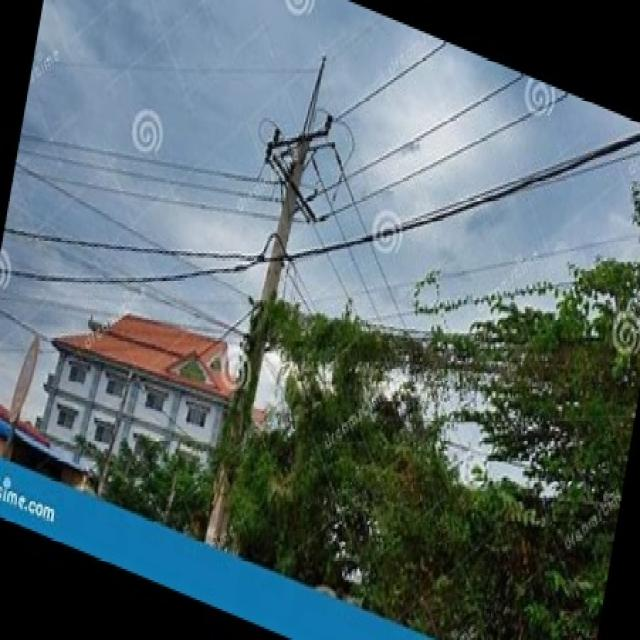utility poles: (250, 287, 633, 497)
